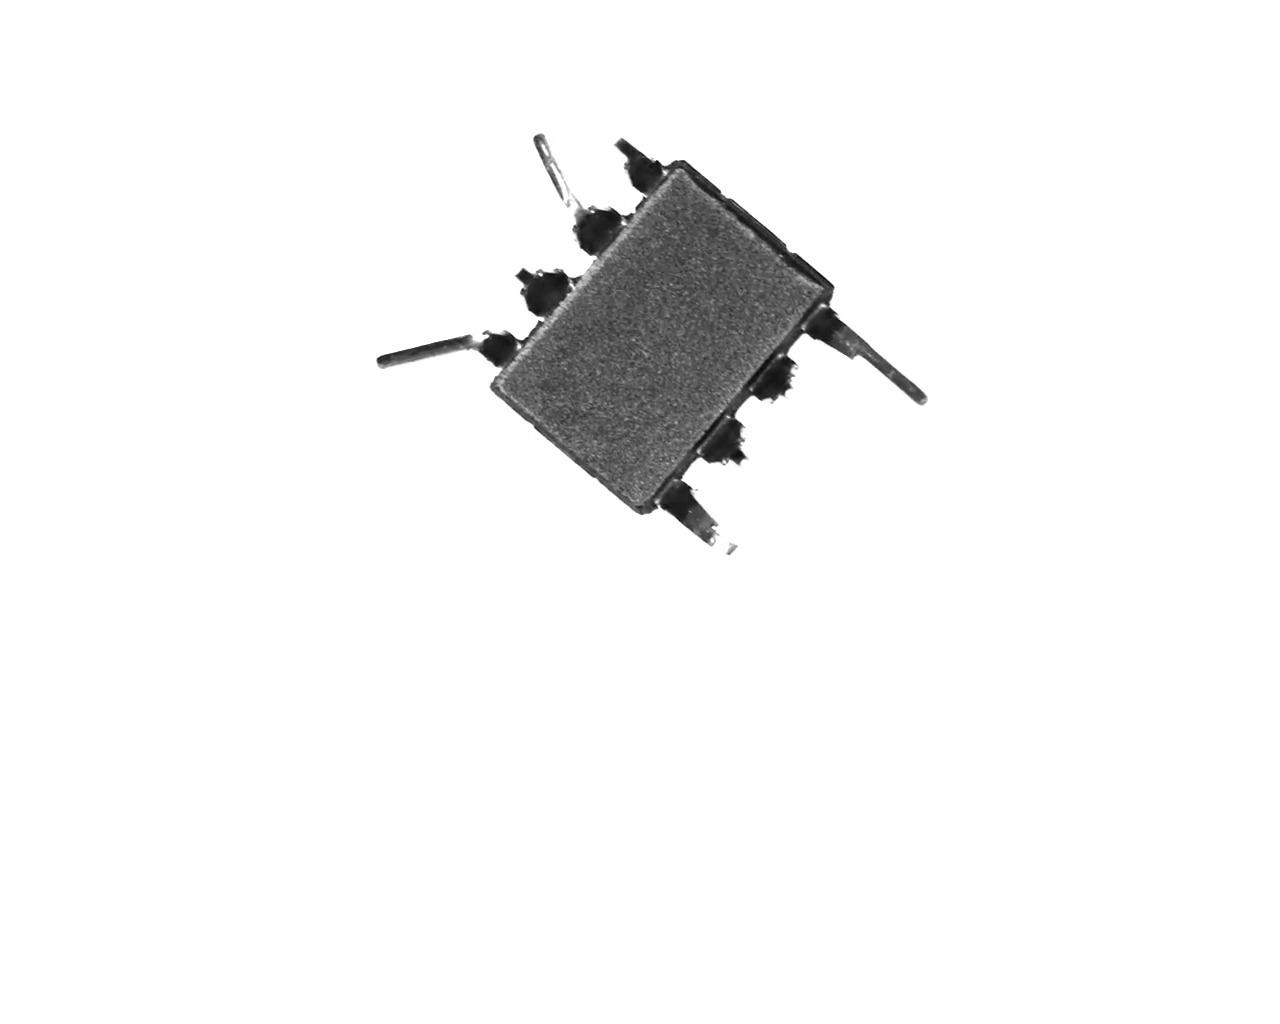Leg: (800, 296, 933, 410), (525, 124, 627, 261), (352, 324, 517, 382), (655, 473, 746, 559), (508, 257, 584, 322), (606, 135, 675, 195), (700, 401, 755, 471), (746, 349, 804, 413)
